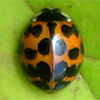Red: (17, 7, 84, 91)
